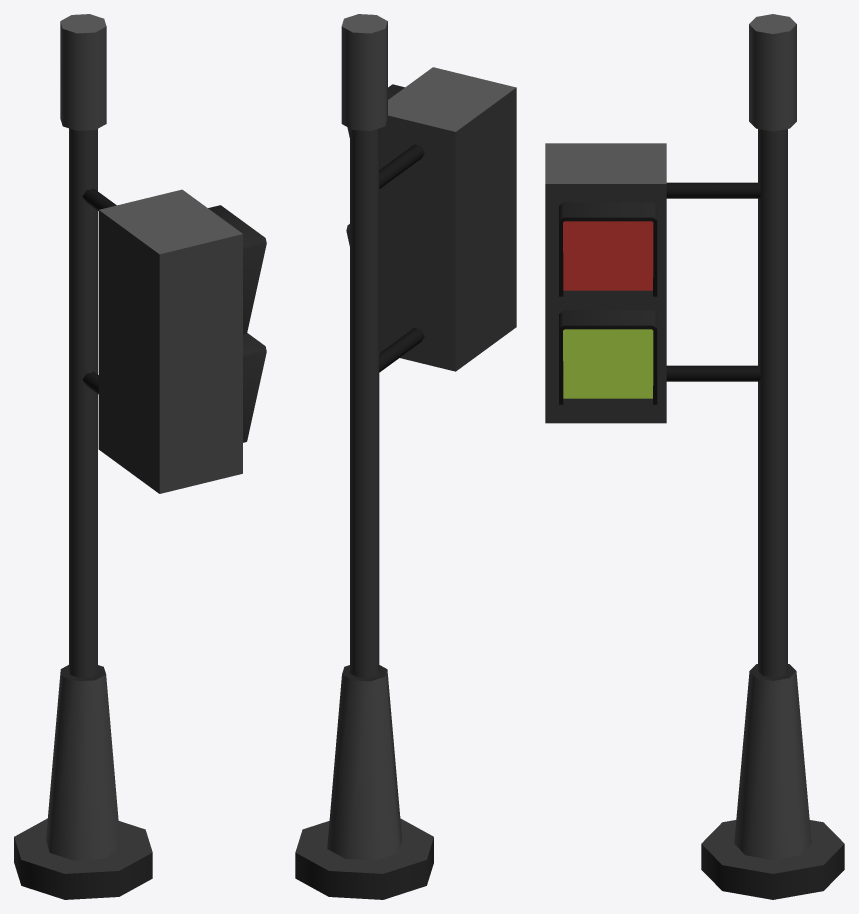
The model's file is signal_lamp02.FBX.
3 views of the same model, side by side, from view 1: azimuth 30°, elevation 25°; view 2: azimuth 150°, elevation 25°; view 3: azimuth 270°, elevation 25° (orthographic).
Visible parts, largest first — view 1: signal_lamp02; view 2: signal_lamp02; view 3: signal_lamp02.
Part boxes in pixels (x1,y1,x2,y2): signal_lamp02: (14, 14, 266, 899); signal_lamp02: (295, 14, 516, 899); signal_lamp02: (545, 14, 844, 899).
Bounding box in the file's own units: 29.33 × 170 × 54.64.
